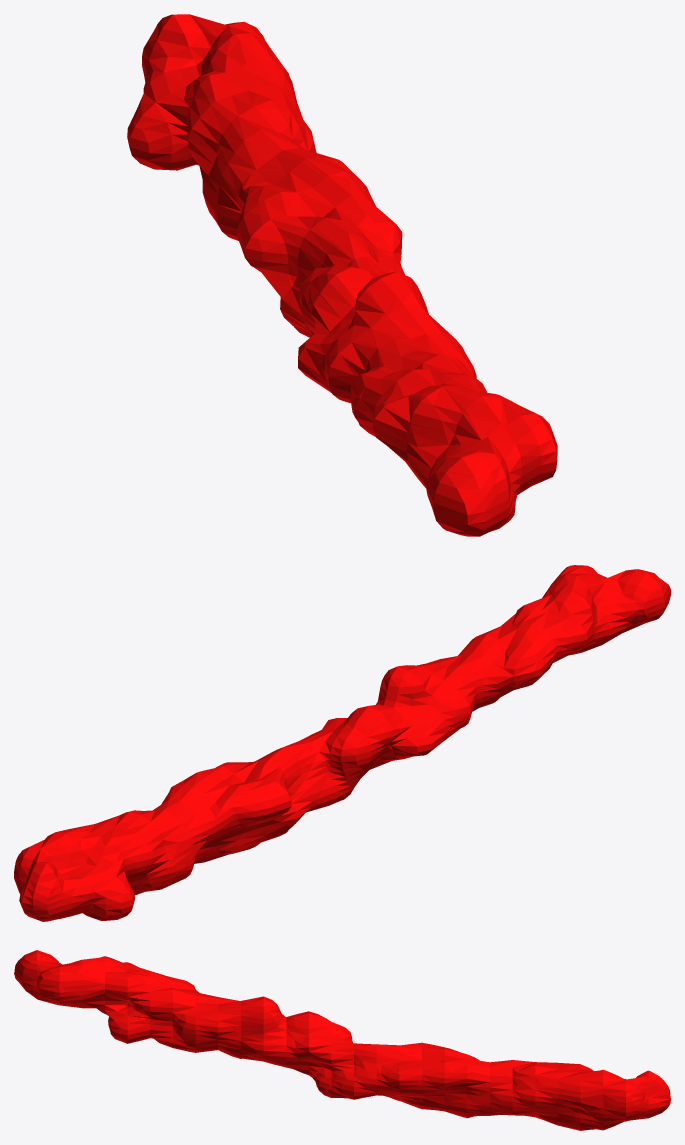
File: xseA_coarse.dae
3 views of the same model, one above another, from view 1: azimuth 30°, elevation 25°; view 2: azimuth 150°, elevation 25°; view 3: azimuth 270°, elevation 25° (orthographic). The views are drawn at different scales.
Parts seen in each view (by area): view 1: xseA; view 2: xseA; view 3: xseA.
Boxes of the visible parts, <box> form: xseA: <box>127,14,557,536</box>; xseA: <box>14,565,670,921</box>; xseA: <box>14,950,670,1130</box>.
Bounding box in the file's own units: 92.97 × 45.03 × 250.
